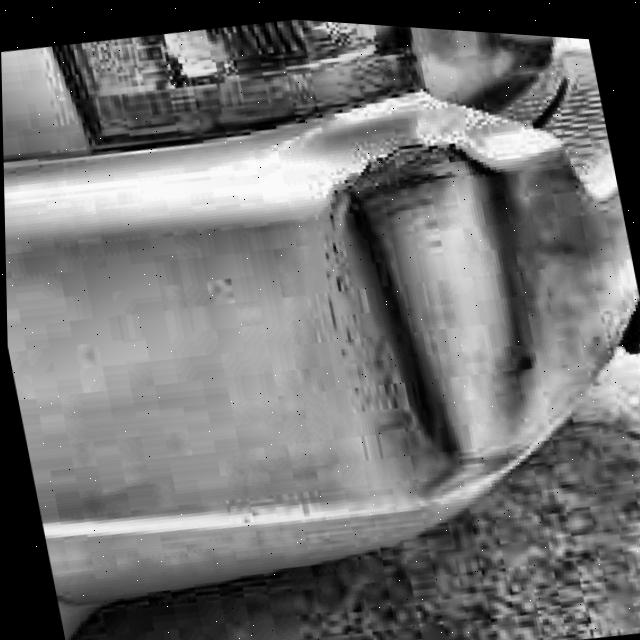bumper_dent: (303, 124, 550, 516)
